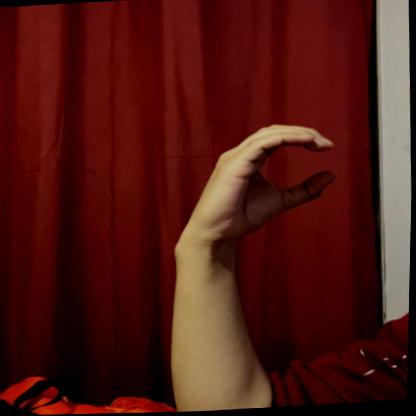C: (188, 117, 346, 248)
